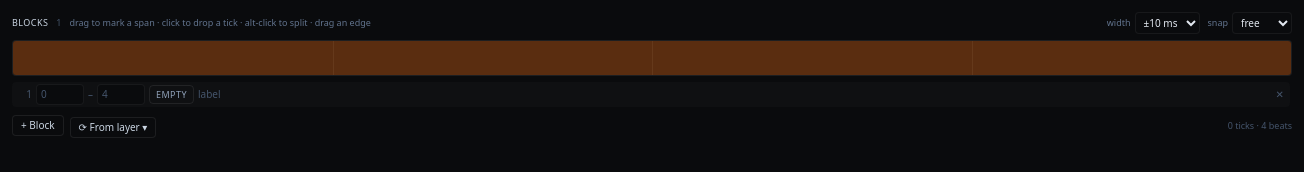
Test: BoundarySegmentEditor › groups tick sources by kind and shows how many items each has in range
What coordinates should you click on to do the following:
click the button "⟳ From layer ▾"
I would click on:
 (113, 128)
Its box is [70,117,156,138].
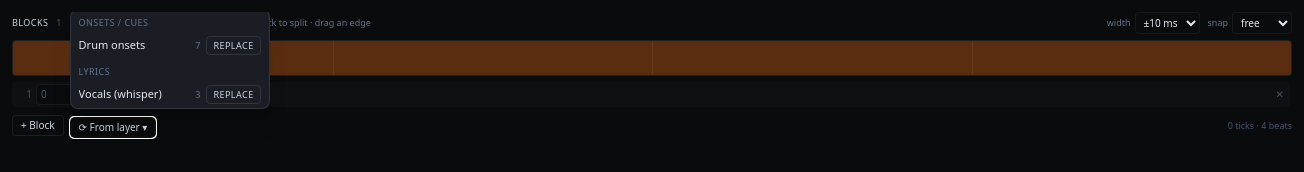
Now the text "Onsets / cues" is shown, box [79,16,148,29]
Now the text "Lyrics" is shown, box [79,65,110,78]
